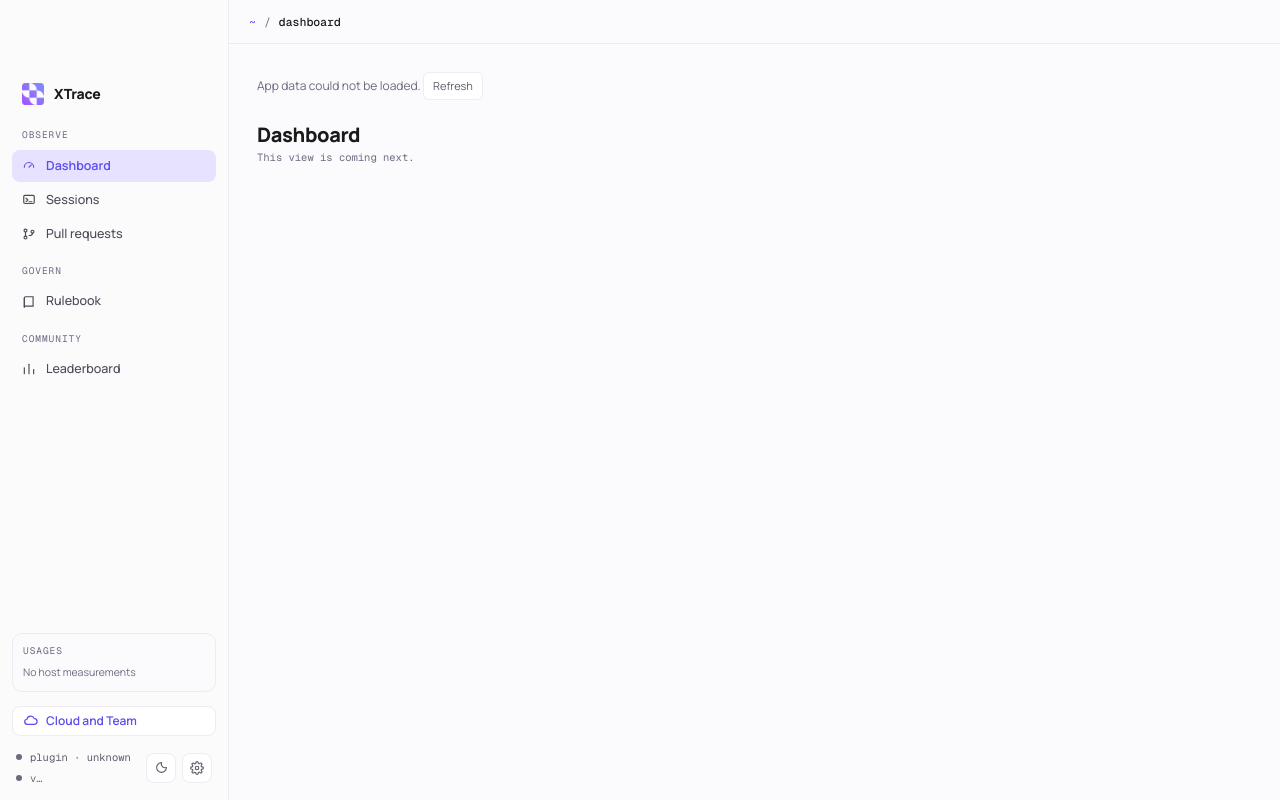
shows native metadata failure safely, retries, and preserves native drag exclusions
Expected: the text "App data could not be loaded. Refresh" is shown, top-left (257, 72), bottom-right (483, 100)
Click the button "Refresh" at (453, 86), box top-left (423, 72), bottom-right (483, 100)
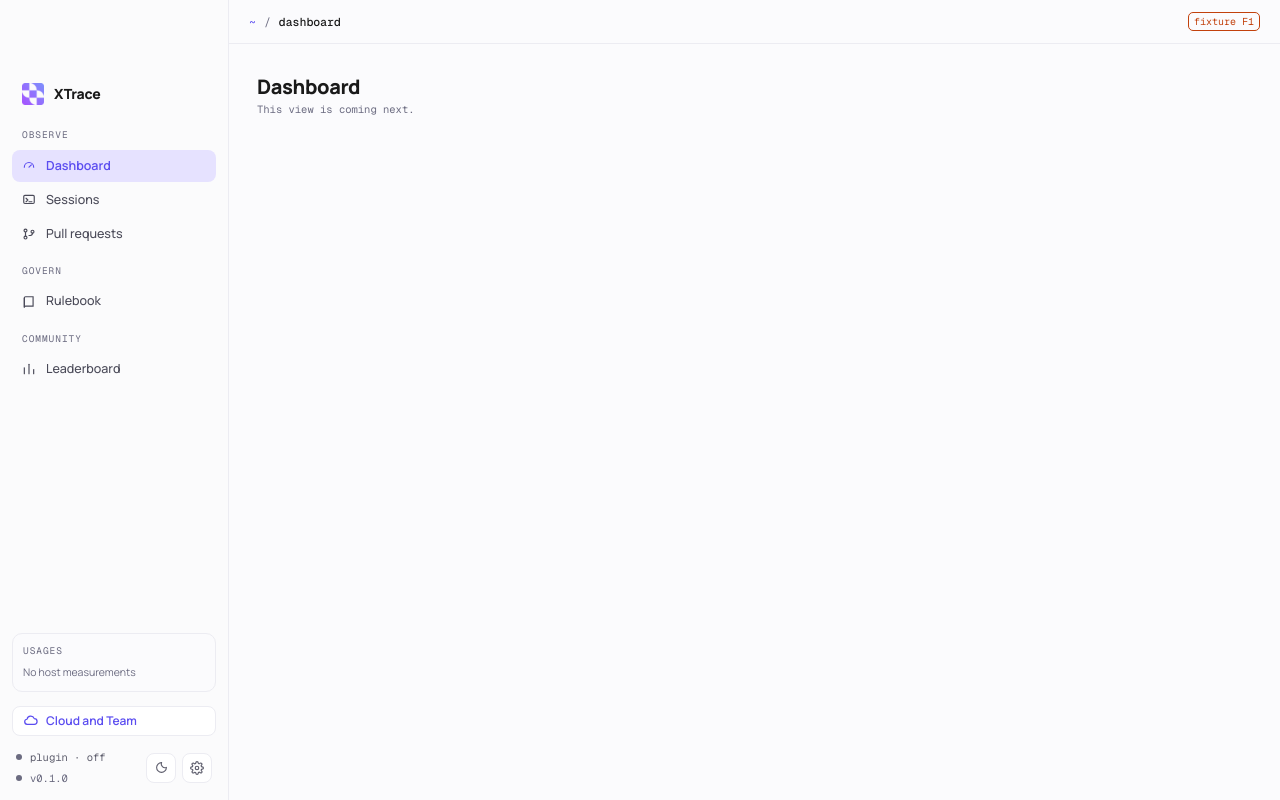
Expected: the text "v0.1.0" is shown, top-left (30, 771), bottom-right (68, 786)
